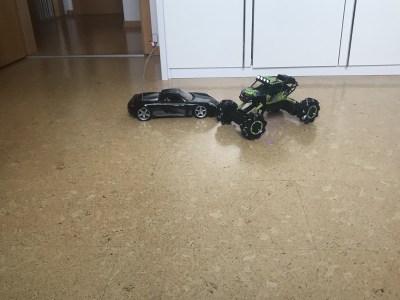remote control car: (215, 67, 323, 141)
